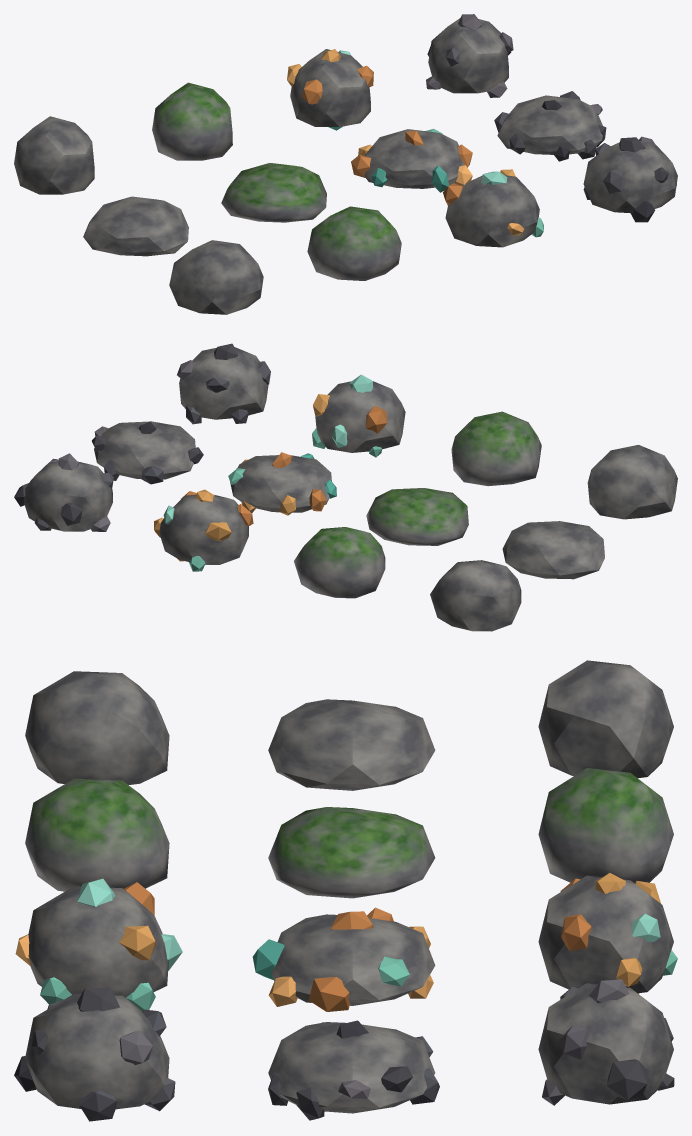
Rendered from boulder.glb.
3 renders of one model, top to bottom at view 1: azimuth 30°, elevation 25°; view 2: azimuth 150°, elevation 25°; view 3: azimuth 270°, elevation 25°, orthographic. The views are drawn at different scales.
Visible parts, largest first — view 1: boulder_a_copper, boulder_a_coal, boulder_b_copper, boulder_b_coal, boulder_c_coal, boulder_a, boulder_a_mossy, boulder_c_copper, boulder_c, boulder_c_mossy, boulder_b, boulder_b_mossy; view 2: boulder_a_coal, boulder_a_copper, boulder_c_coal, boulder_c_copper, boulder_a, boulder_a_mossy, boulder_b_coal, boulder_b_copper, boulder_c, boulder_c_mossy, boulder_b_mossy, boulder_b; view 3: boulder_a_coal, boulder_a_copper, boulder_b_copper, boulder_c_coal, boulder_a, boulder_b_coal, boulder_a_mossy, boulder_c_copper, boulder_c, boulder_c_mossy, boulder_b, boulder_b_mossy.
Boxes of the visible parts, box(x1,y1,x2,y2) form: boulder_a_copper: box(443, 169, 543, 247); boulder_a_coal: box(583, 136, 677, 222); boulder_b_copper: box(351, 128, 472, 192); boulder_b_coal: box(494, 91, 606, 161); boulder_c_coal: box(426, 14, 513, 97); boulder_a: box(169, 240, 263, 314); boulder_a_mossy: box(307, 206, 401, 280); boulder_c_copper: box(287, 49, 373, 130); boulder_c: box(14, 116, 94, 194); boulder_c_mossy: box(152, 82, 232, 160); boulder_b: box(83, 196, 188, 256); boulder_b_mossy: box(221, 163, 326, 222); boulder_a_coal: box(177, 343, 270, 424); boulder_a_copper: box(312, 374, 405, 457); boulder_c_coal: box(14, 453, 113, 531); boulder_c_copper: box(154, 489, 253, 571); boulder_a: box(587, 445, 677, 519); boulder_a_mossy: box(451, 411, 541, 486); boulder_b_coal: box(92, 421, 203, 484); boulder_b_copper: box(228, 452, 336, 515); boulder_c: box(430, 560, 521, 631); boulder_c_mossy: box(294, 527, 385, 598); boulder_b_mossy: box(366, 488, 468, 545); boulder_b: box(502, 521, 604, 579); boulder_a_coal: box(14, 987, 175, 1121); boulder_a_copper: box(15, 878, 182, 1011); boulder_b_copper: box(252, 907, 435, 1011); boulder_c_coal: box(538, 979, 674, 1105); boulder_a: box(25, 671, 169, 784); boulder_b_coal: box(268, 1020, 439, 1120); boulder_a_mossy: box(25, 778, 169, 891); boulder_c_copper: box(538, 873, 677, 993); boulder_c: box(538, 660, 673, 778); boulder_c_mossy: box(538, 768, 673, 883); boulder_b: box(268, 699, 435, 790); boulder_b_mossy: box(268, 807, 435, 898).
Bounding box in the file's own units: 6.66 × 0.9369 × 4.7.
Materials: 14 (12 with a texture image).
